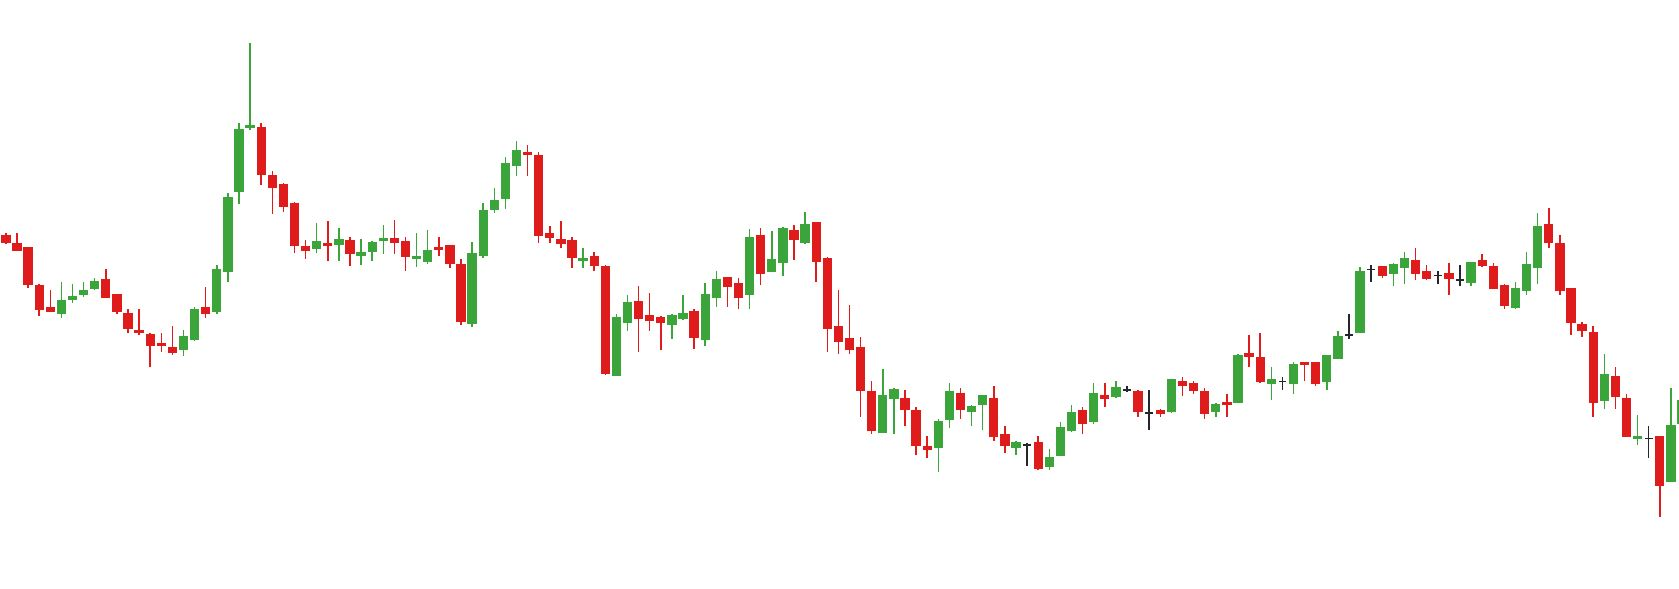sell: (1397, 208, 1565, 299)
